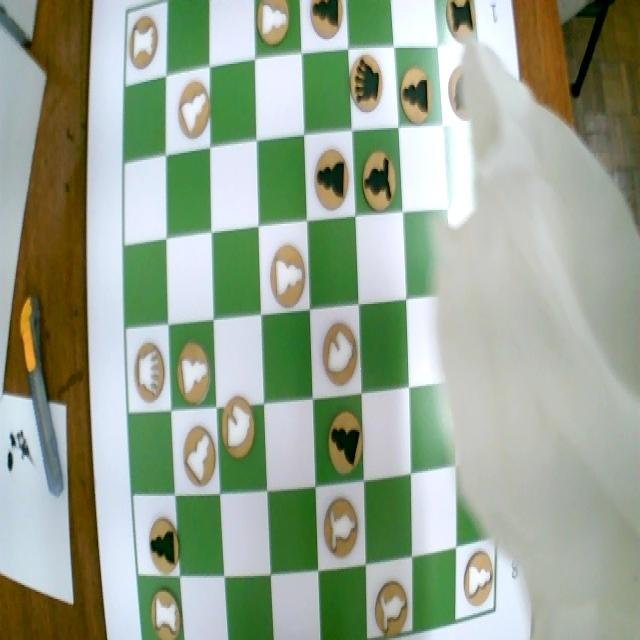chess-pieces: (304, 139, 351, 219), (266, 228, 310, 307), (316, 314, 361, 390), (359, 146, 400, 222), (324, 410, 366, 482), (178, 416, 218, 490), (144, 512, 187, 580), (320, 490, 360, 563), (346, 55, 390, 117), (176, 338, 212, 412), (400, 67, 436, 140), (132, 342, 168, 412), (462, 545, 498, 615), (440, 0, 483, 54), (380, 576, 416, 640), (255, 0, 299, 52), (223, 391, 257, 452), (175, 81, 212, 137), (305, 0, 348, 46), (147, 591, 188, 639), (128, 14, 160, 72)
